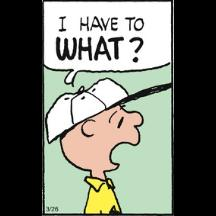charlie: (46, 76, 175, 216)
